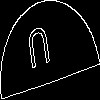U: (25, 25, 53, 78)
